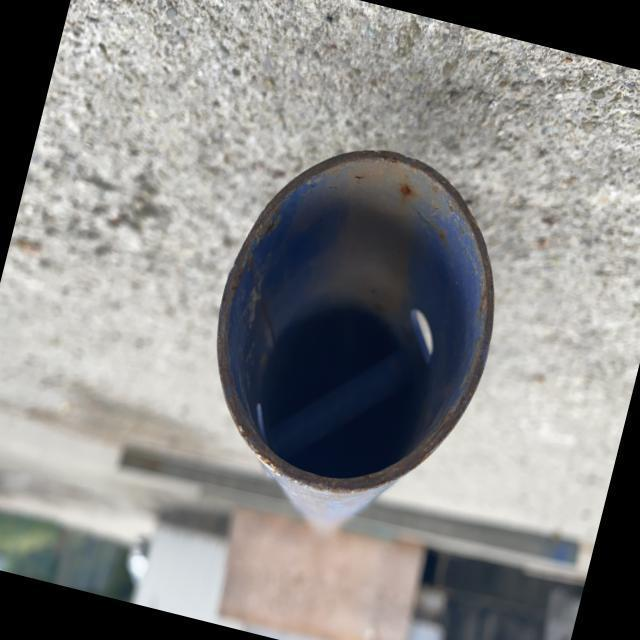pipe: (215, 147, 496, 496)
